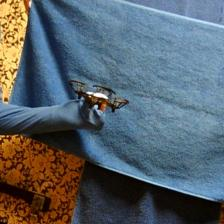drone: (68, 78, 131, 122)
